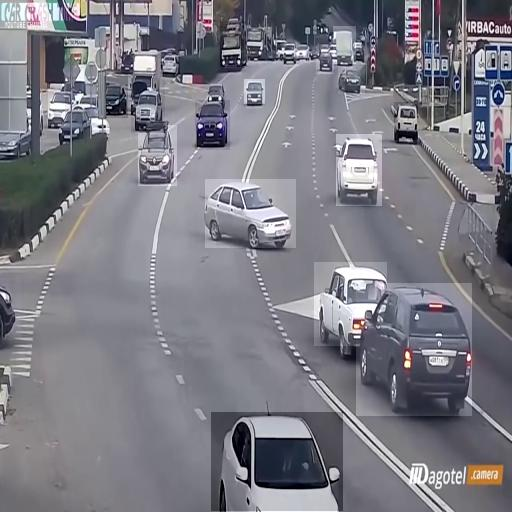小汽车: (356, 283, 472, 416), (211, 412, 343, 511), (205, 179, 296, 248), (314, 262, 387, 346), (336, 134, 382, 206), (138, 125, 177, 186), (132, 78, 166, 133), (195, 100, 230, 150), (0, 278, 21, 337), (220, 22, 246, 68), (59, 104, 87, 143), (104, 76, 128, 118), (394, 102, 418, 140), (333, 26, 356, 64), (338, 66, 365, 94), (48, 84, 65, 126), (316, 44, 334, 74), (244, 79, 265, 104), (161, 52, 180, 74), (283, 41, 299, 66)
